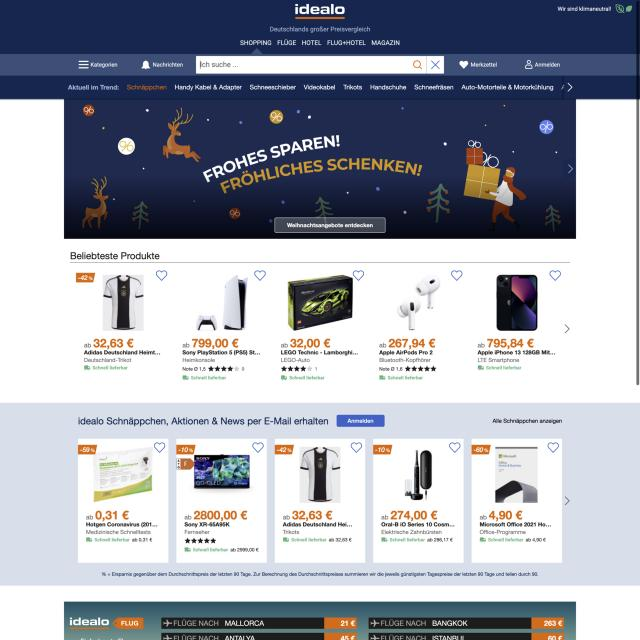input: (194, 55, 445, 73)
logo: (292, 2, 349, 20)
navigation: (65, 77, 575, 99), (236, 37, 403, 49), (77, 59, 120, 71)
